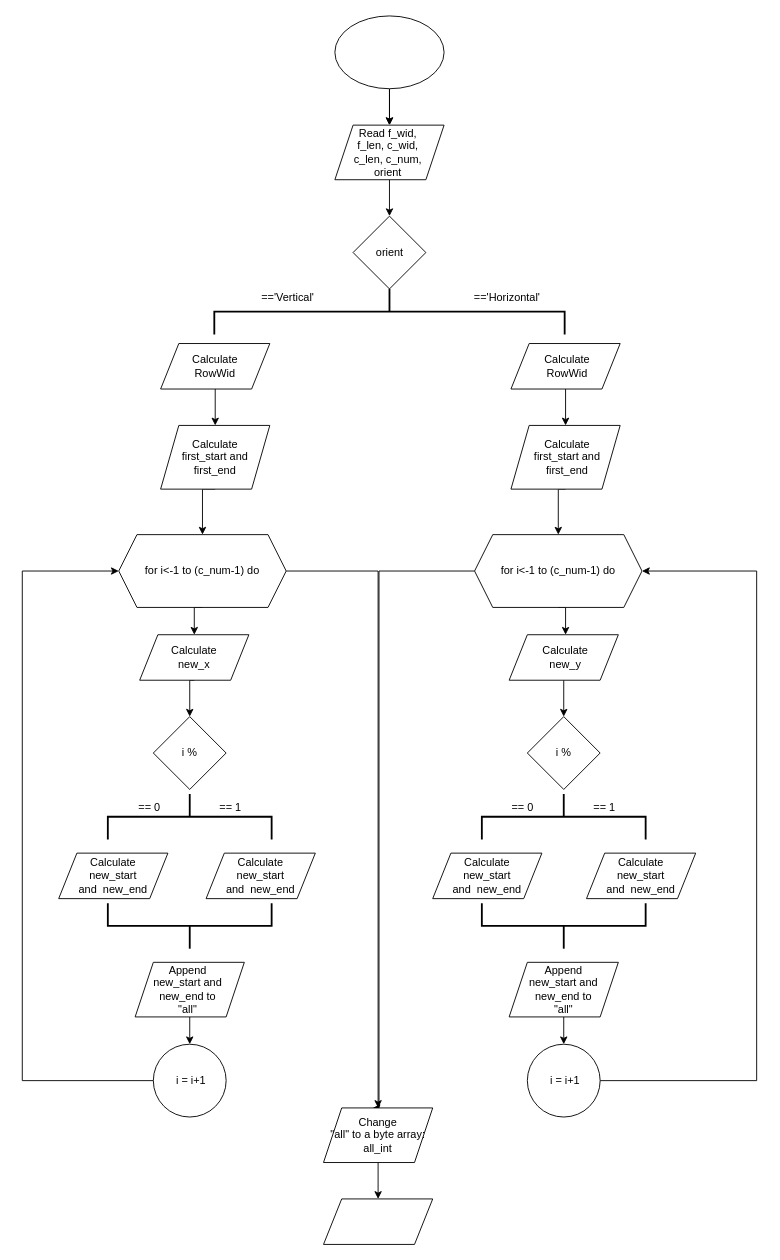
Image size: 780x1260. Some labels were removed from this diagram. Here are the shapes that lost their labels. From the top down, the box of each, then its label:
(334, 15, 444, 89): Start
(323, 1198, 433, 1244): Print all_int to a .bin file
